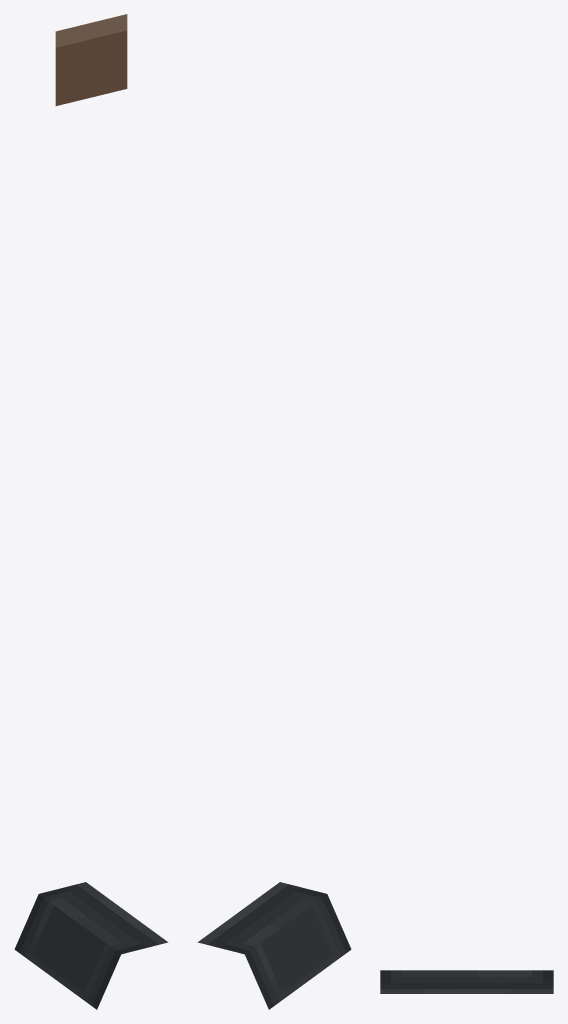
3 renders of one model, left to right at view 1: azimuth 30°, elevation 25°; view 2: azimuth 150°, elevation 25°; view 3: azimuth 270°, elevation 25°, orthographic. The views are drawn at different scales.
Bounding box in the file's own units: 0.5 × 6.33 × 1.
2 materials, 2 textured.
